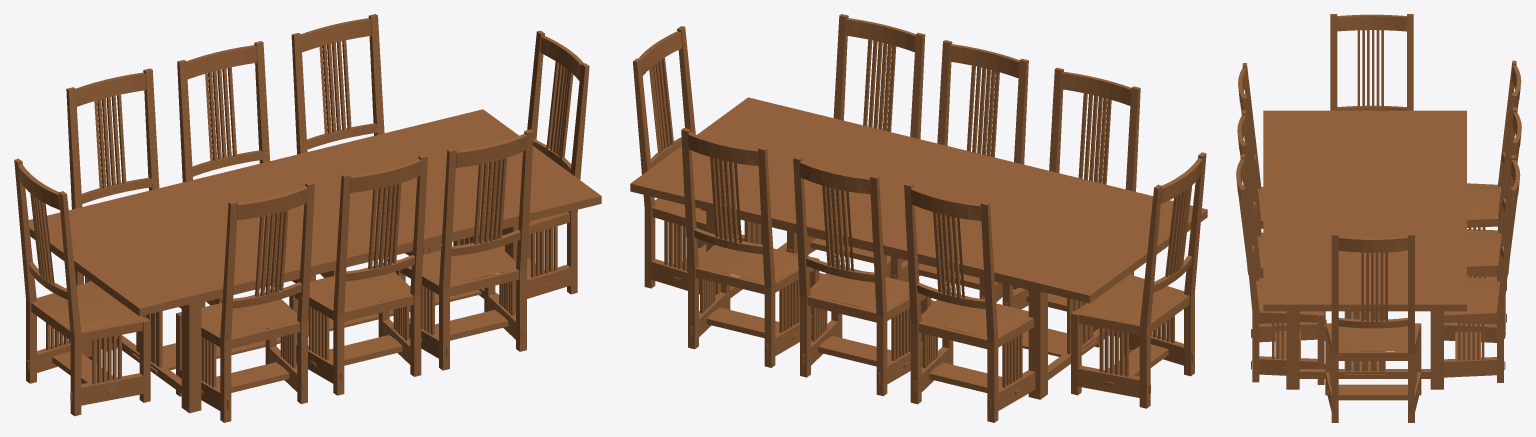
Rendered from Table.glb.
3 renders of one model, left to right at view 1: azimuth 30°, elevation 25°; view 2: azimuth 150°, elevation 25°; view 3: azimuth 270°, elevation 25°, orthographic. The views are drawn at different scales.
Parts seen in each view (by area): view 1: Node; view 2: Node; view 3: Node.
Boxes of the visible parts, x1=… form: Node: x1=14, y1=14, x2=601, y2=422; Node: x1=630, y1=14, x2=1207, y2=422; Node: x1=1236, y1=14, x2=1521, y2=422.
Size of the model in its own units: 126 by 50.09 by 67.27.
